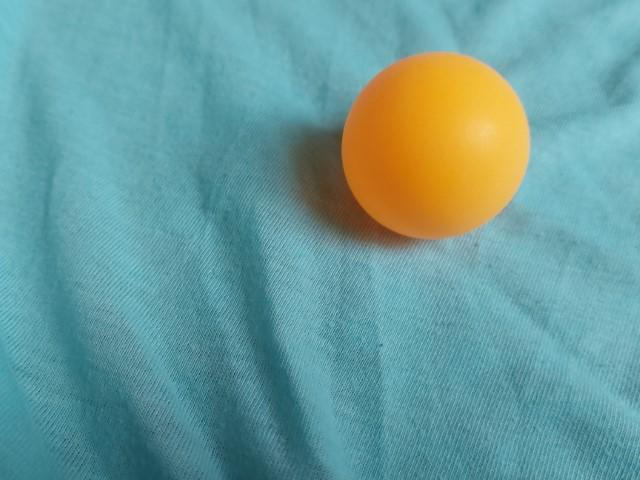oball: (329, 41, 541, 252)
